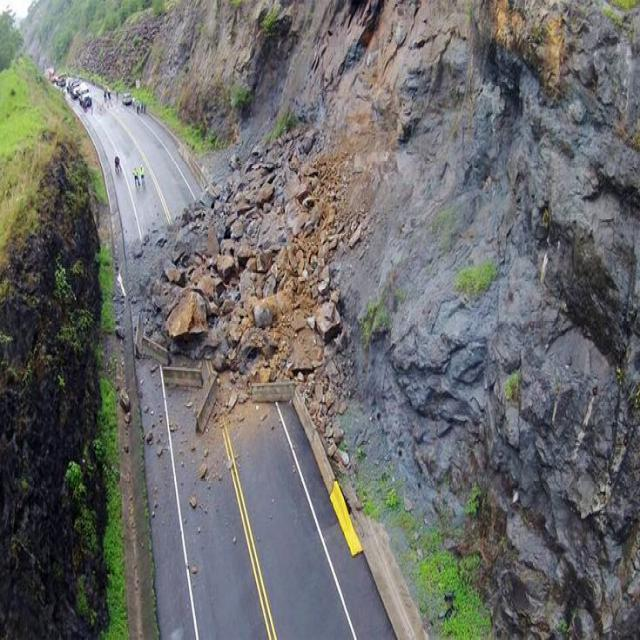landSliding: (82, 187, 358, 481)
